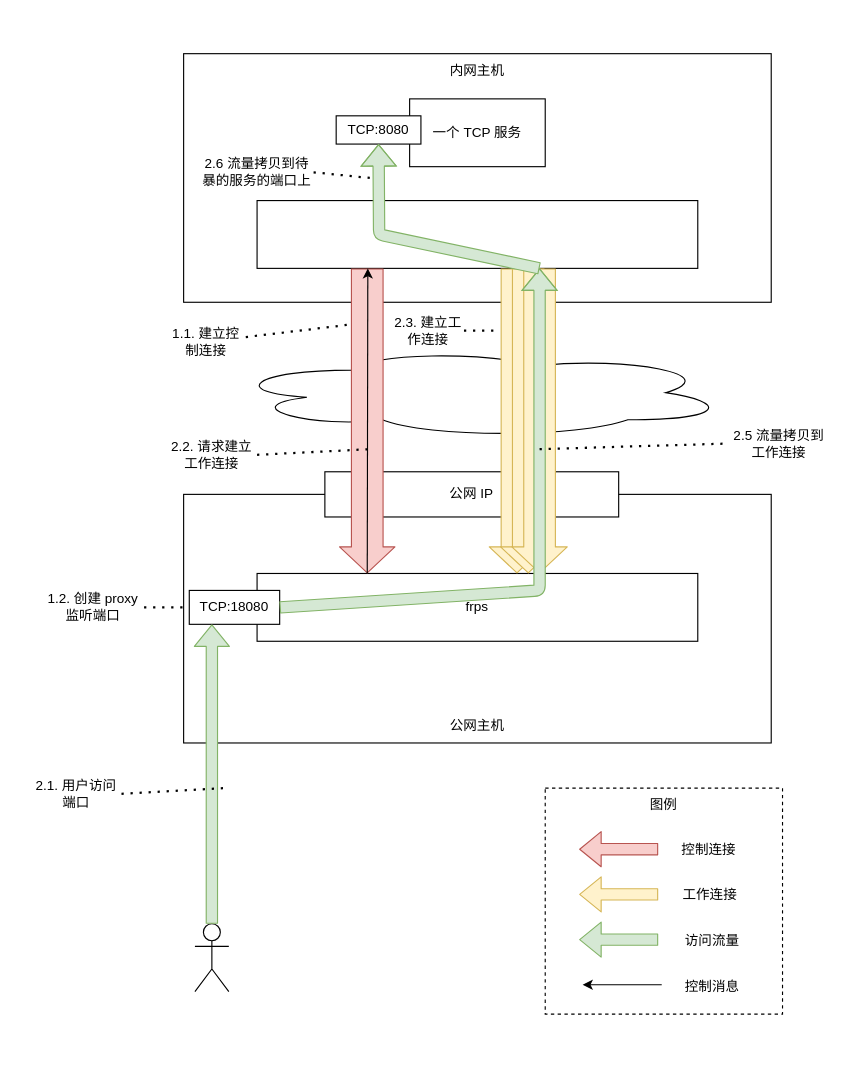
Image size: 863x1089. Some labels were removed from this diagram. Each missing label, with the centre of its shape:
Actor: (x=211, y=957)
frpc: (x=477, y=233)
互联网: (x=477, y=392)
